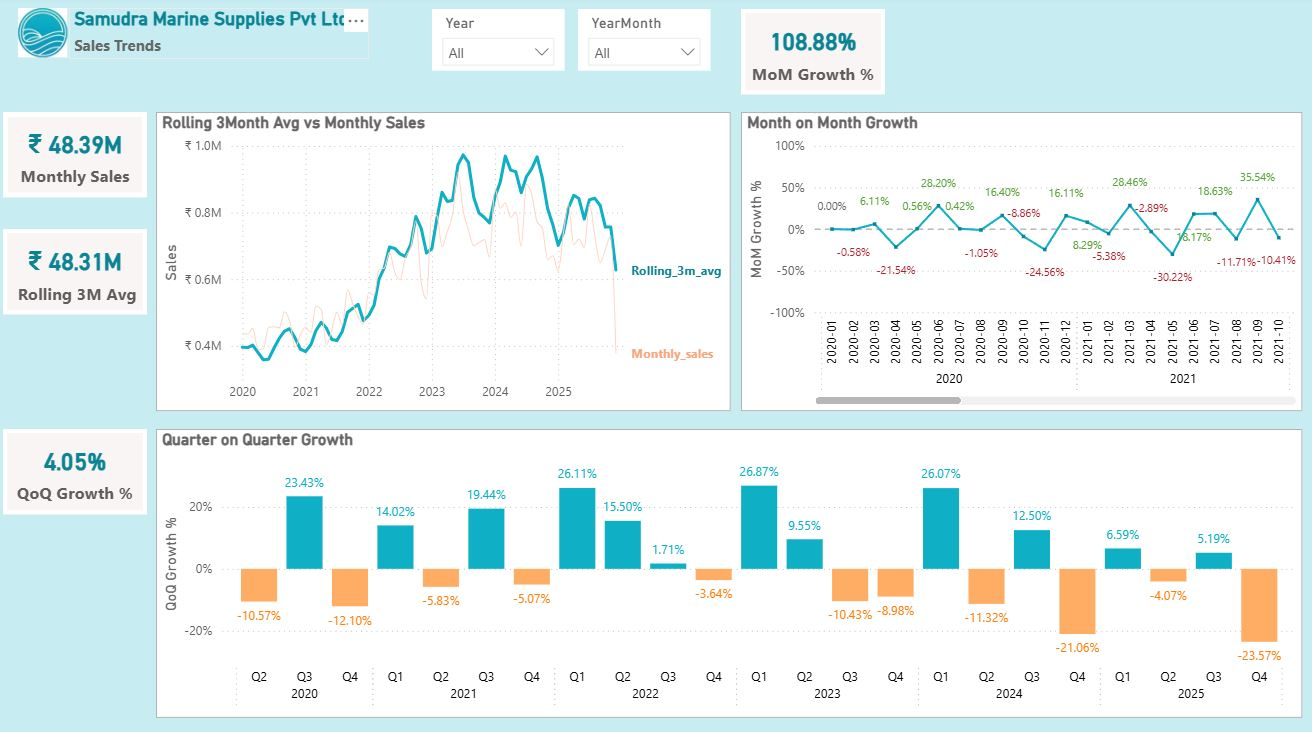

The dashboard page shown, as its layout file describes it:
{"tool":"powerbi","page":{"name":"Sales Trends","canvas":[1280,720],"ordinal":2},"visuals":[{"type":"lineChart","title":"Month on Month Growth","fields":{"Y":["Avg(kpi_monthly_revenue_analysis.MoM Growth_%)"],"Category":["dim_date.Date Hierarchy.Year","dim_date.Date Hierarchy.YearMonth"]},"box":[722.7,111.9,545.7,290.8],"z":0},{"type":"lineChart","title":"Rolling 3Month Avg vs Monthly Sales","fields":{"Y":["Sum(kpi_monthly_revenue_analysis.rolling_3m_avg)"],"Category":["kpi_monthly_revenue_analysis.month"],"Y2":["Sum(kpi_monthly_revenue_analysis.monthly_sales)"]},"box":[153.7,111.9,559.3,290.8],"z":1000},{"type":"card","fields":{"Values":["Sum(kpi_monthly_revenue_analysis.rolling_3m_avg)"]},"box":[4.9,225.7,140,83],"z":2000},{"type":"card","fields":{"Values":["Sum(kpi_monthly_revenue_analysis.MoM Growth_%)"]},"box":[722.7,11.7,140,83],"z":3000},{"type":"slicer","fields":{"Values":["dim_date.YearMonth"]},"box":[564.1,11.7,129.4,60.3],"z":4000},{"type":"card","fields":{"Values":["Sum(kpi_monthly_revenue_analysis.monthly_sales)"]},"box":[4.9,111.9,140.1,82.7],"z":5000},{"type":"card","fields":{"Values":["fact _orders.QoQ Growth %"]},"box":[4.9,420.2,140.1,82.7],"z":6000},{"type":"columnChart","title":"Quarter on Quarter Growth ","fields":{"Y":["fact _orders.QoQ Growth %"],"Category":["dim_date.Date Hierarchy.Year","dim_date.Date Hierarchy.Quarter"]},"box":[153.7,420.2,1114.7,281.1],"z":7000},{"type":"slicer","fields":{"Values":["dim_date.Year"]},"box":[422.1,11.7,129.4,60.3],"z":8000},{"type":"textbox","title":"Samudra Marine Supplies Pvt Ltd","box":[69.1,10.7,291.8,49.6],"z":9000},{"type":"image","box":[17.5,10.7,51.6,47.7],"z":10000}]}

Visuals, with their boxes in screenshot pixels (x1, y1, x2, y2), scaled from the page's 1280x720 canvas onto the 1312x732 screenshot:
"Month on Month Growth" lineChart: (x1=741, y1=114, x2=1300, y2=409)
"Rolling 3Month Avg vs Monthly Sales" lineChart: (x1=158, y1=114, x2=731, y2=409)
card - Sum(kpi_monthly_revenue_analysis.rolling_3m_avg): (x1=5, y1=229, x2=149, y2=314)
card - Sum(kpi_monthly_revenue_analysis.MoM Growth_%): (x1=741, y1=12, x2=884, y2=96)
slicer - dim_date.YearMonth: (x1=578, y1=12, x2=711, y2=73)
card - Sum(kpi_monthly_revenue_analysis.monthly_sales): (x1=5, y1=114, x2=149, y2=198)
card - fact _orders.QoQ Growth %: (x1=5, y1=427, x2=149, y2=511)
"Quarter on Quarter Growth " columnChart: (x1=158, y1=427, x2=1300, y2=713)
slicer - dim_date.Year: (x1=433, y1=12, x2=565, y2=73)
"Samudra Marine Supplies Pvt Ltd" textbox: (x1=71, y1=11, x2=370, y2=61)
image: (x1=18, y1=11, x2=71, y2=59)
